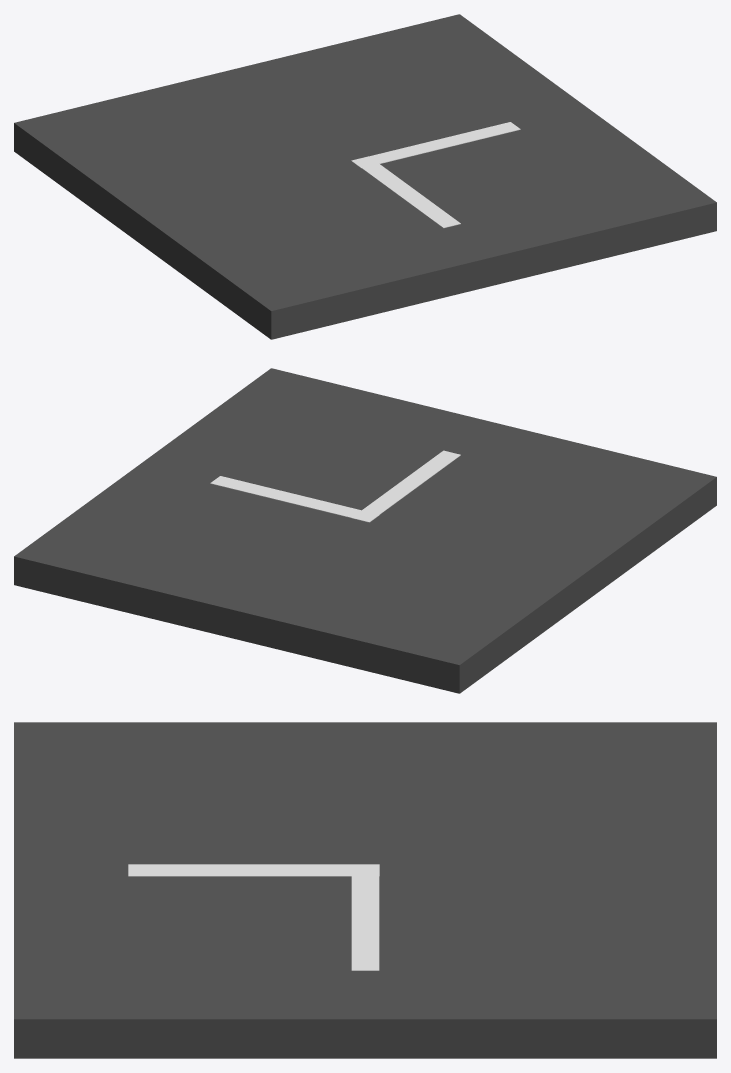
The model's file is duong pho (corner).FBX.
The picture shows the model from 3 angles, top to bottom: view 1: azimuth 30°, elevation 25°; view 2: azimuth 150°, elevation 25°; view 3: azimuth 270°, elevation 25°; orthographic projection. The views are drawn at different scales.
Visible parts, largest first — view 1: Box1922; view 2: Box1922; view 3: Box1922.
Boxes of the visible parts, x1,y1,x2,y2 form: Box1922: (14, 14, 716, 339); Box1922: (14, 368, 716, 693); Box1922: (14, 722, 716, 1058).
Bounding box in the file's own units: 14.22 × 0.888 × 14.22.
